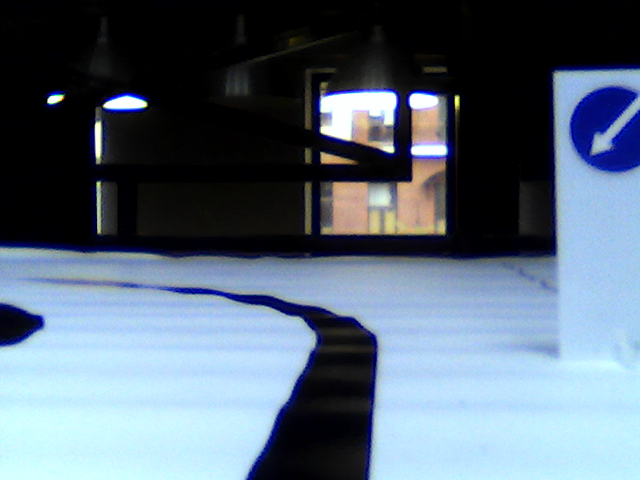prep: (567, 82, 640, 175)
